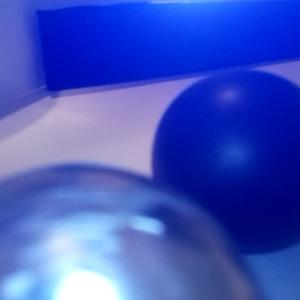alive_ball: (1, 167, 265, 300)
dead_ball: (153, 71, 300, 254)
